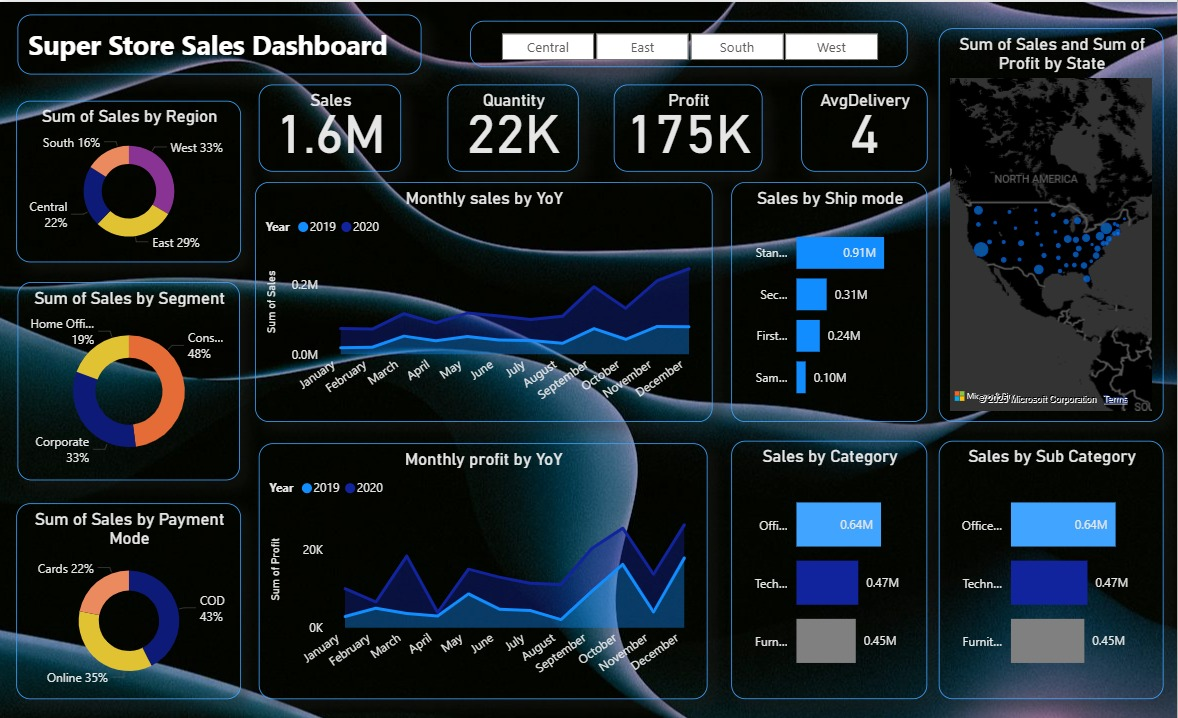

Layout of this report page (visuals, bound fields, positions):
{"tool":"powerbi","page":{"name":"Page 1","canvas":[1280,720],"ordinal":0},"visuals":[{"type":"clusteredBarChart","title":" Sales by Category","fields":{"Category":["SuperStore_Sales_Dataset.Category"],"Y":["Sum(SuperStore_Sales_Dataset.Sales)"]},"box":[731.2,438.8,196.2,258.8],"z":0},{"type":"clusteredBarChart","title":" Sales by Sub Category","fields":{"Category":["SuperStore_Sales_Dataset.Category"],"Y":["Sum(SuperStore_Sales_Dataset.Sales)"]},"box":[938.8,438.8,225,258.8],"z":1000},{"type":"stackedAreaChart","title":"Monthly sales by YoY","fields":{"Category":["SuperStore_Sales_Dataset.Order Date.Variation.Date Hierarchy.Month","SuperStore_Sales_Dataset.Order Date.Variation.Date Hierarchy.Day"],"Y":["Sum(SuperStore_Sales_Dataset.Sales)"],"Series":["SuperStore_Sales_Dataset.Order Date.Variation.Date Hierarchy.Year"]},"box":[255,180,457.5,240],"z":2000},{"type":"stackedAreaChart","title":"Monthly profit by YoY","fields":{"Category":["SuperStore_Sales_Dataset.Order Date.Variation.Date Hierarchy.Month","SuperStore_Sales_Dataset.Order Date.Variation.Date Hierarchy.Day"],"Series":["SuperStore_Sales_Dataset.Order Date.Variation.Date Hierarchy.Year"],"Y":["Sum(SuperStore_Sales_Dataset.Profit)"]},"box":[258.8,441.2,448.8,256.2],"z":3000},{"type":"map","fields":{"Category":["SuperStore_Sales_Dataset.State"],"Size":["Sum(SuperStore_Sales_Dataset.Sales)"]},"box":[938.8,26.2,225,393.8],"z":4000},{"type":"clusteredBarChart","title":" Sales by Ship mode","fields":{"Y":["Sum(SuperStore_Sales_Dataset.Sales)"],"Category":["SuperStore_Sales_Dataset.Ship Mode"]},"box":[731.2,180,196.2,240],"z":5000},{"type":"donutChart","fields":{"Category":["SuperStore_Sales_Dataset.Segment"],"Y":["Sum(SuperStore_Sales_Dataset.Sales)"]},"box":[17.5,280,222.5,198.8],"z":6000},{"type":"donutChart","fields":{"Y":["Sum(SuperStore_Sales_Dataset.Sales)"],"Category":["SuperStore_Sales_Dataset.Payment Mode"]},"box":[16.2,501.2,225,196.2],"z":7000},{"type":"slicer","fields":{"Values":["SuperStore_Sales_Dataset.Region"]},"box":[470,18.8,437.5,46.2],"z":8000},{"type":"textbox","box":[17.5,12.5,403.8,60],"z":9000},{"type":"card","title":"Sales","fields":{"Values":["Sum(SuperStore_Sales_Dataset.Sales)"]},"box":[258.8,82.5,142.5,87.5],"z":10000},{"type":"card","title":"Quantity","fields":{"Values":["Sum(SuperStore_Sales_Dataset.Quantity)"]},"box":[447.5,82.5,131.2,87.5],"z":11000},{"type":"card","title":"Profit","fields":{"Values":["Sum(SuperStore_Sales_Dataset.Profit)"]},"box":[613.8,82.5,148.8,87.5],"z":12000},{"type":"card","title":"AvgDelivery","fields":{"Values":["Avg(SuperStore_Sales_Dataset.AvgDelivery)"]},"box":[801.2,82.5,126.2,87.5],"z":13000},{"type":"donutChart","fields":{"Y":["Sum(SuperStore_Sales_Dataset.Sales)"],"Category":["SuperStore_Sales_Dataset.Region"]},"box":[16.2,98.8,225,161.2],"z":13001}]}

Visuals, with their boxes on the page's 1280x720 design canvas (x1, y1, x2, y2). These are canvas units, not pixel positions in the 1178x718 screenshot, which may show the page scaled, cropped or inside an application window:
" Sales by Category" clusteredBarChart: <bbox>731, 439, 927, 698</bbox>
" Sales by Sub Category" clusteredBarChart: <bbox>939, 439, 1164, 698</bbox>
"Monthly sales by YoY" stackedAreaChart: <bbox>255, 180, 712, 420</bbox>
"Monthly profit by YoY" stackedAreaChart: <bbox>259, 441, 708, 697</bbox>
map - SuperStore_Sales_Dataset.State x Sum(SuperStore_Sales_Dataset.Sales): <bbox>939, 26, 1164, 420</bbox>
" Sales by Ship mode" clusteredBarChart: <bbox>731, 180, 927, 420</bbox>
donutChart - SuperStore_Sales_Dataset.Segment x Sum(SuperStore_Sales_Dataset.Sales): <bbox>18, 280, 240, 479</bbox>
donutChart - Sum(SuperStore_Sales_Dataset.Sales) x SuperStore_Sales_Dataset.Payment Mode: <bbox>16, 501, 241, 697</bbox>
slicer - SuperStore_Sales_Dataset.Region: <bbox>470, 19, 908, 65</bbox>
textbox: <bbox>18, 12, 421, 72</bbox>
"Sales" card: <bbox>259, 82, 401, 170</bbox>
"Quantity" card: <bbox>448, 82, 579, 170</bbox>
"Profit" card: <bbox>614, 82, 763, 170</bbox>
"AvgDelivery" card: <bbox>801, 82, 927, 170</bbox>
donutChart - Sum(SuperStore_Sales_Dataset.Sales) x SuperStore_Sales_Dataset.Region: <bbox>16, 99, 241, 260</bbox>
